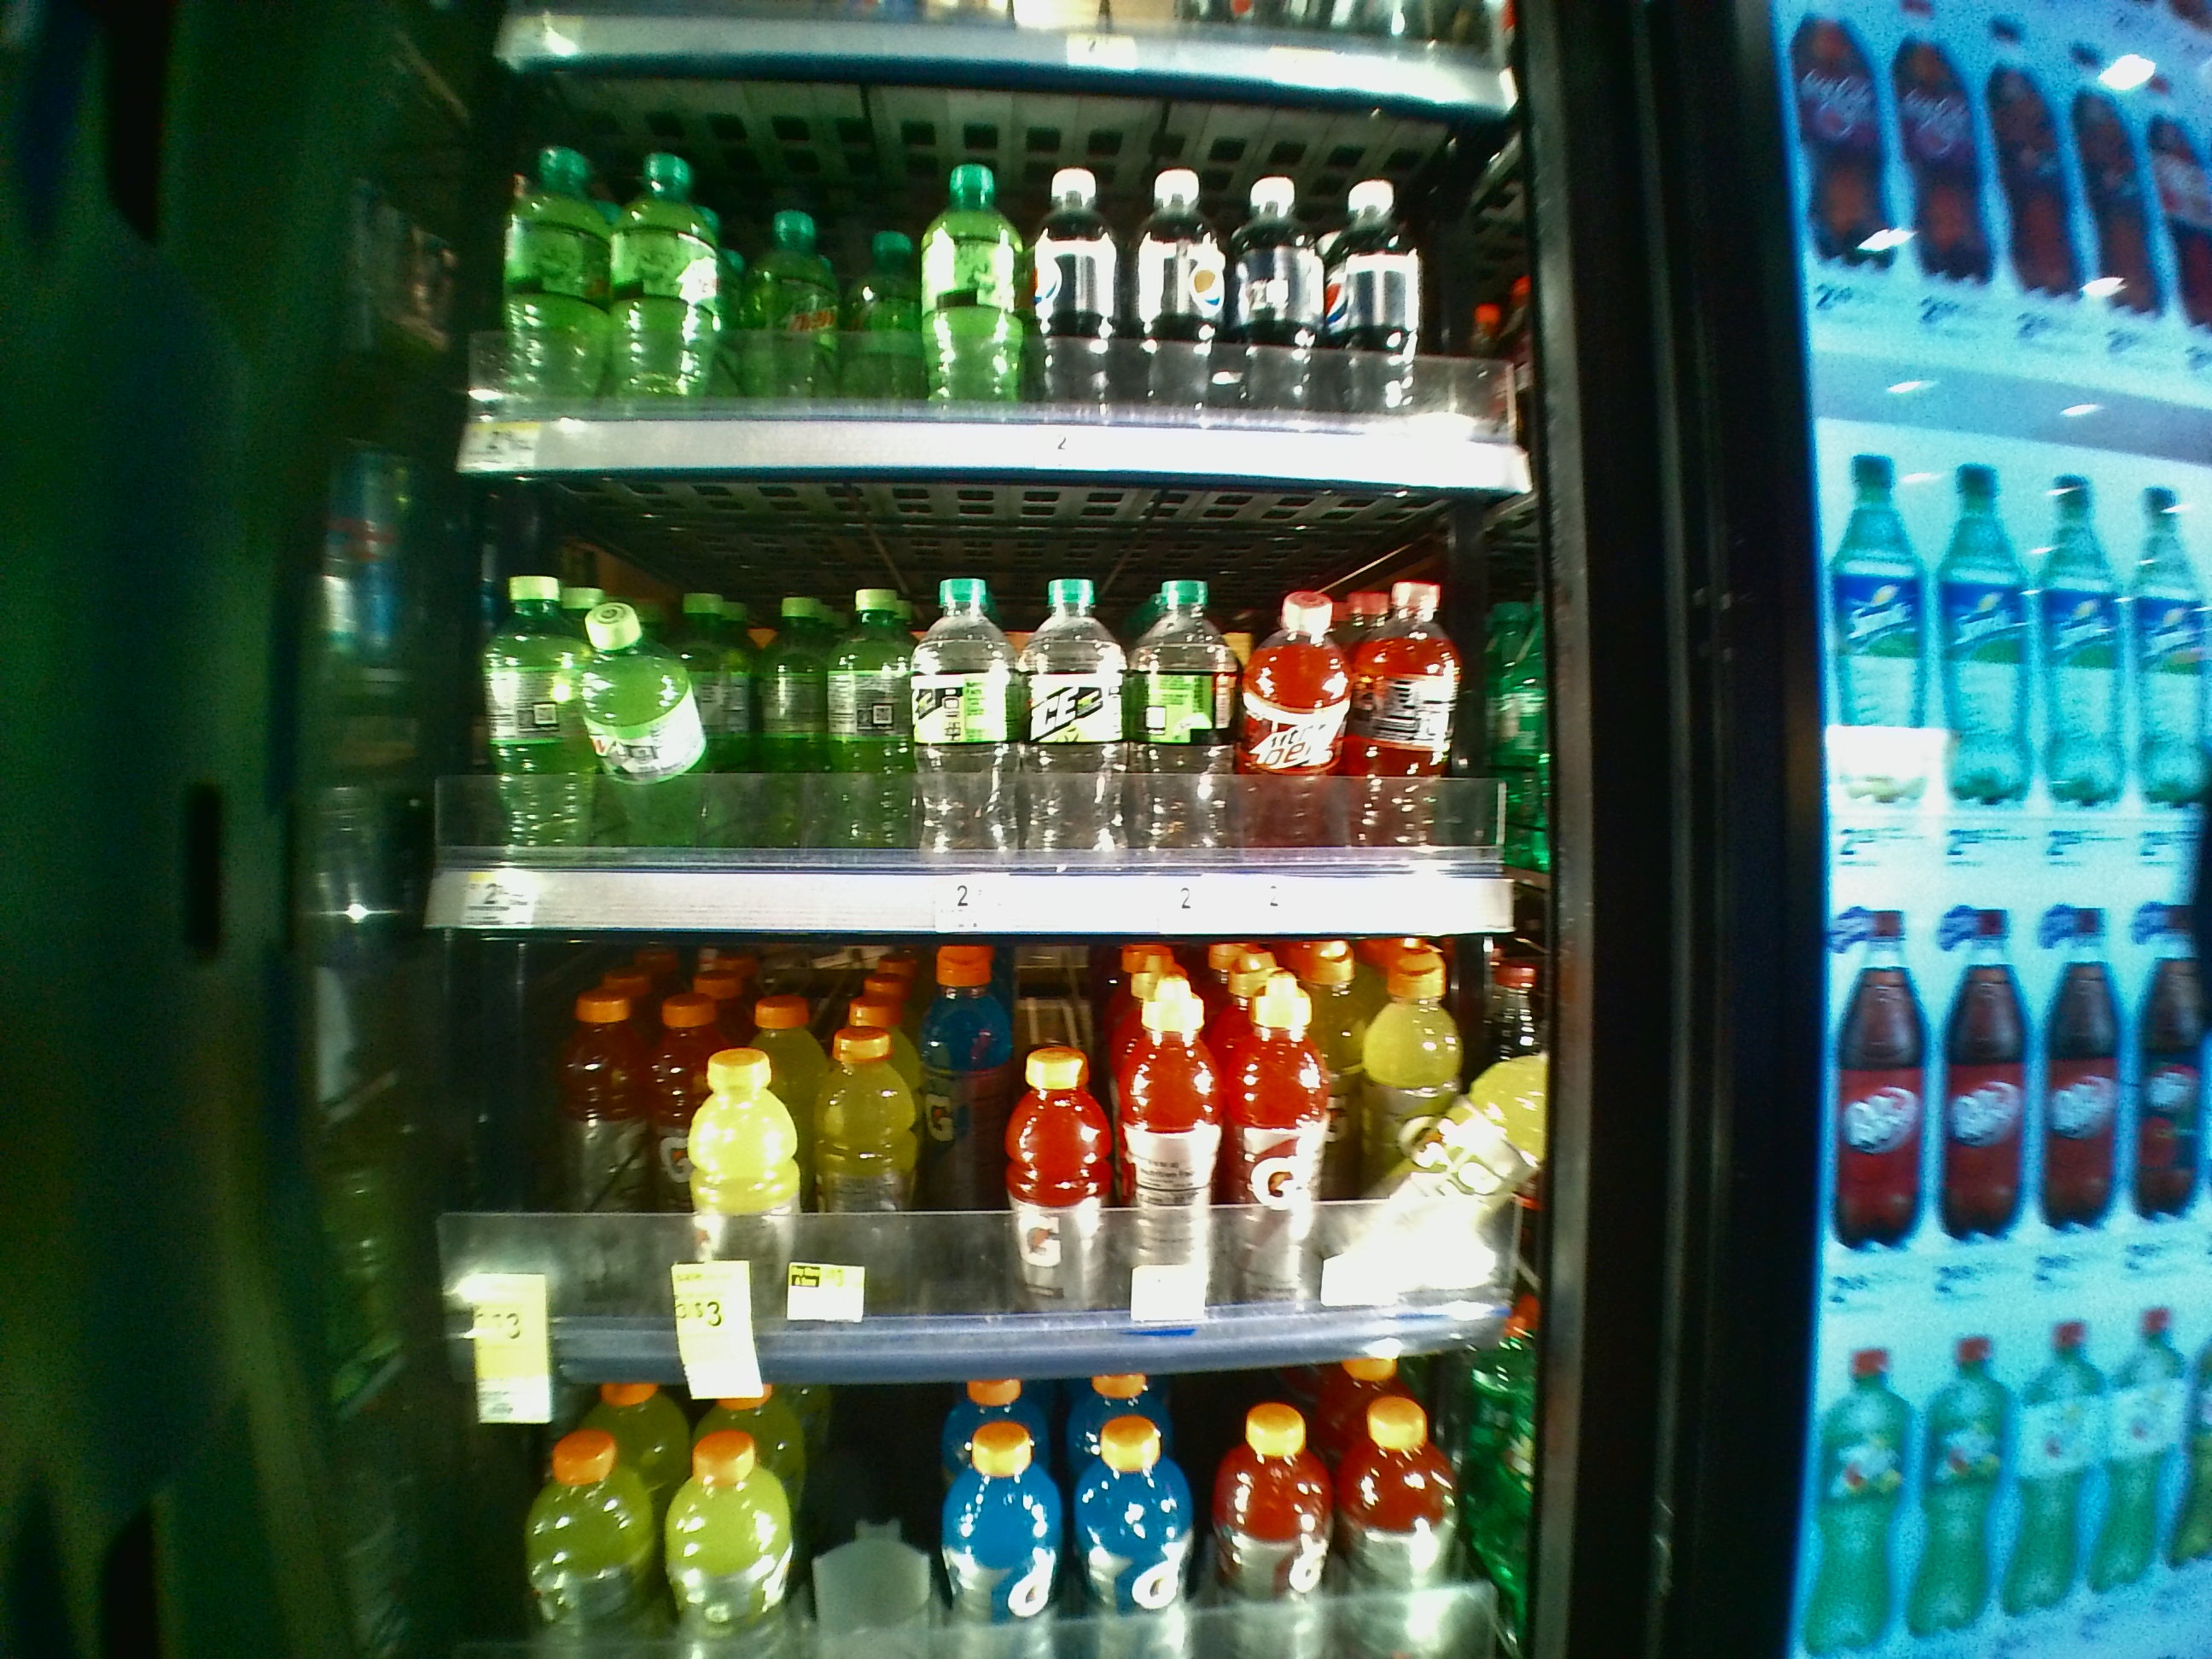shelf: (430, 453, 1587, 929), (425, 929, 1595, 1368)
